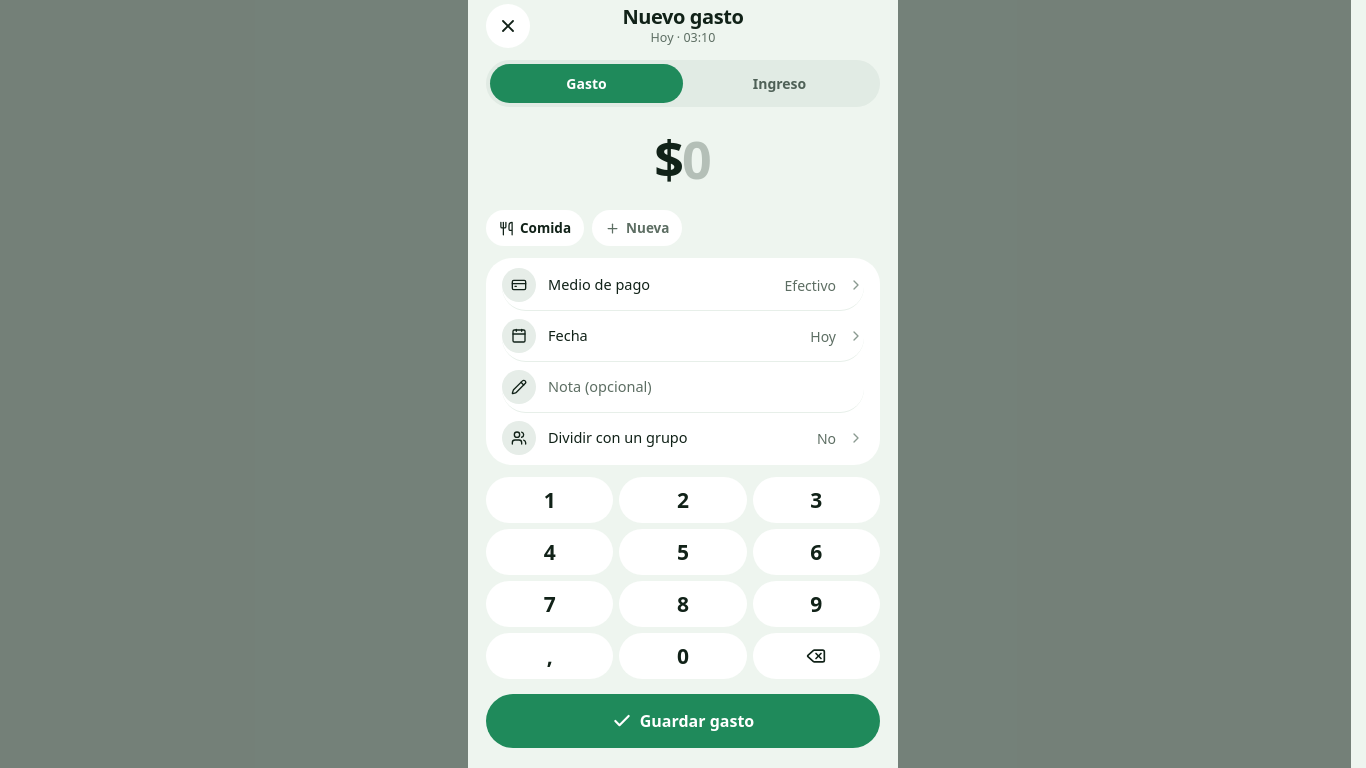
MovementSheet overdraft warning › warns with balance, amount and negative result, and does not save yet
This screenshot has width=1366, height=768.
Step 1. Type "25000" into the field named "Monto" → [697, 158], box [682,123,712,194]
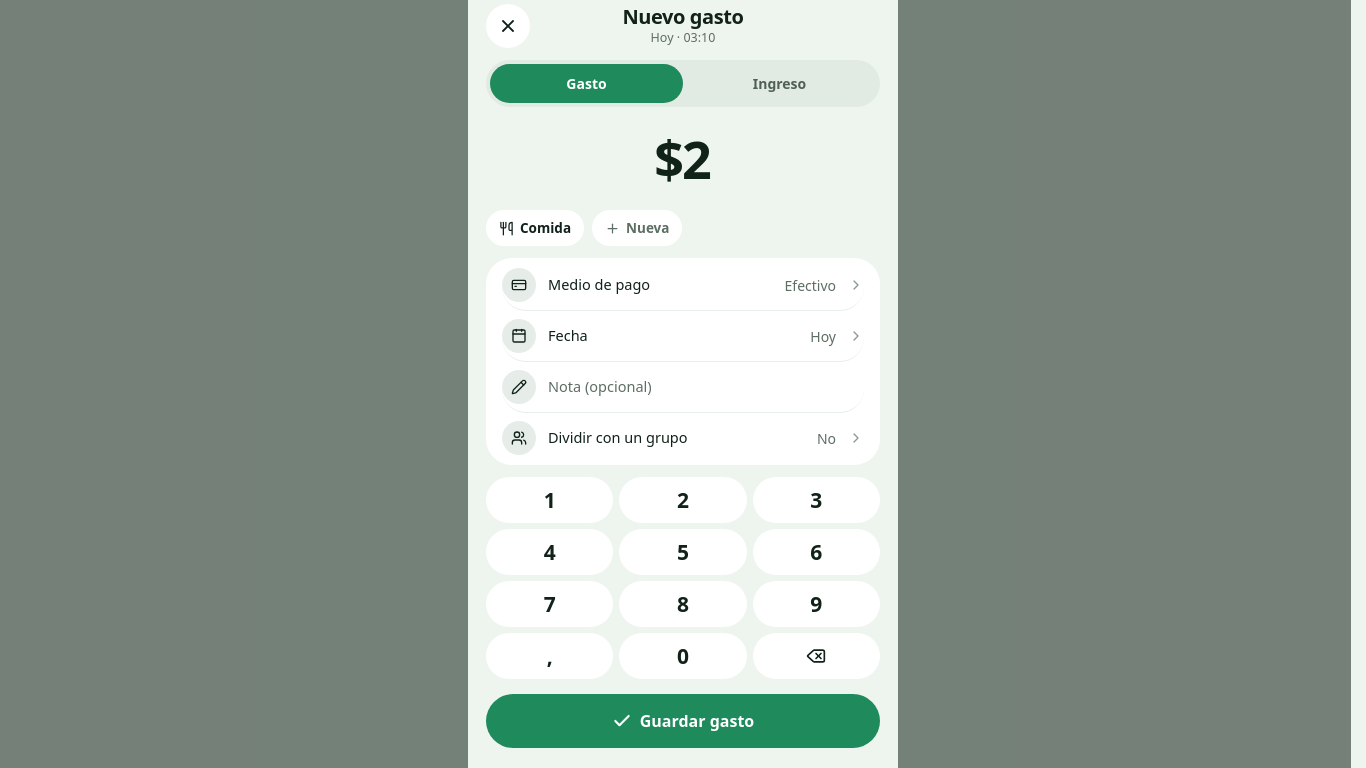
Step 2. Click the button "Comida" → [535, 228], box [486,210,584,246]
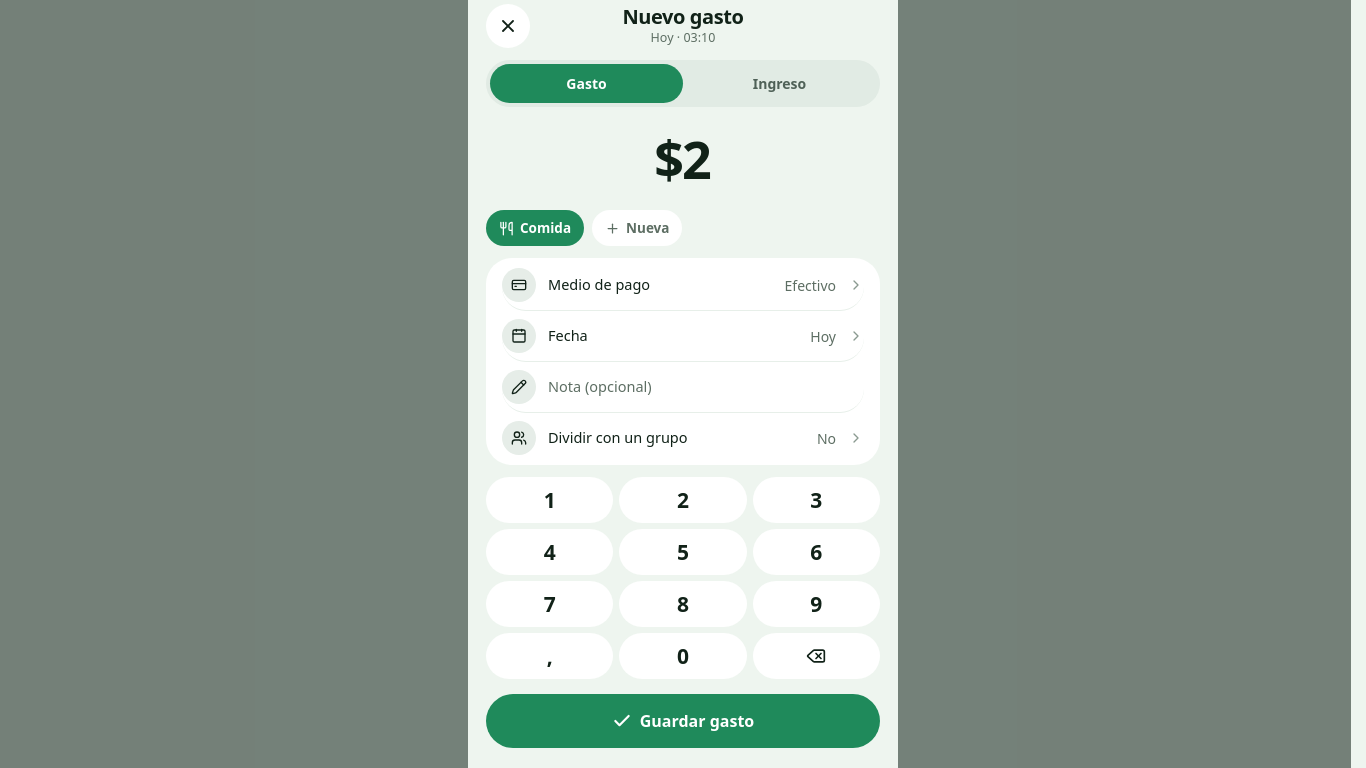
Step 3. Click the button "Guardar gasto" → [683, 721], box [486,694,880,748]
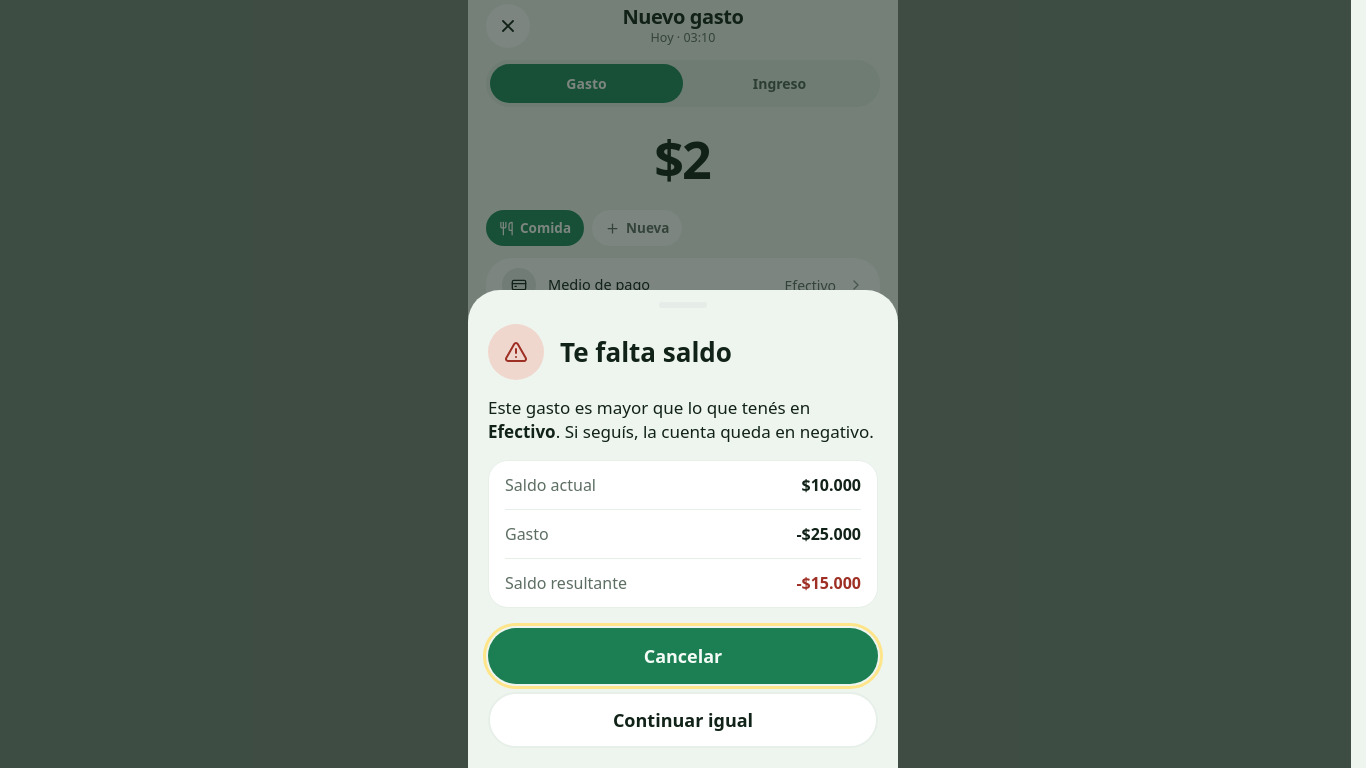
Now the dialog shows "Saldo actual", box [505,474,596,496]
Now the dialog shows "$10.000", box [802,474,861,496]
Now the dialog shows "-$25.000", box [796,523,861,545]
